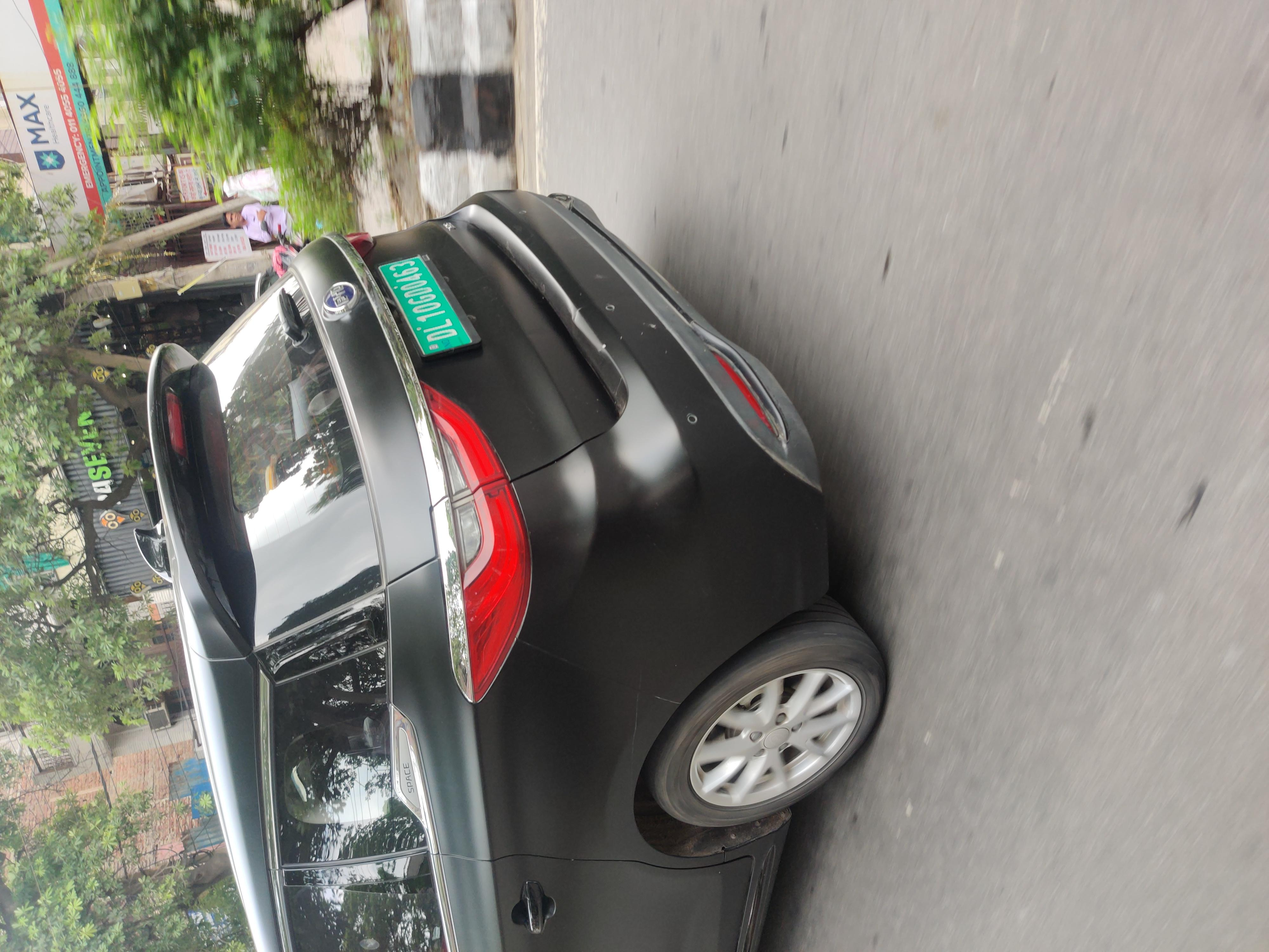green license plate: (780, 280, 939, 362)
